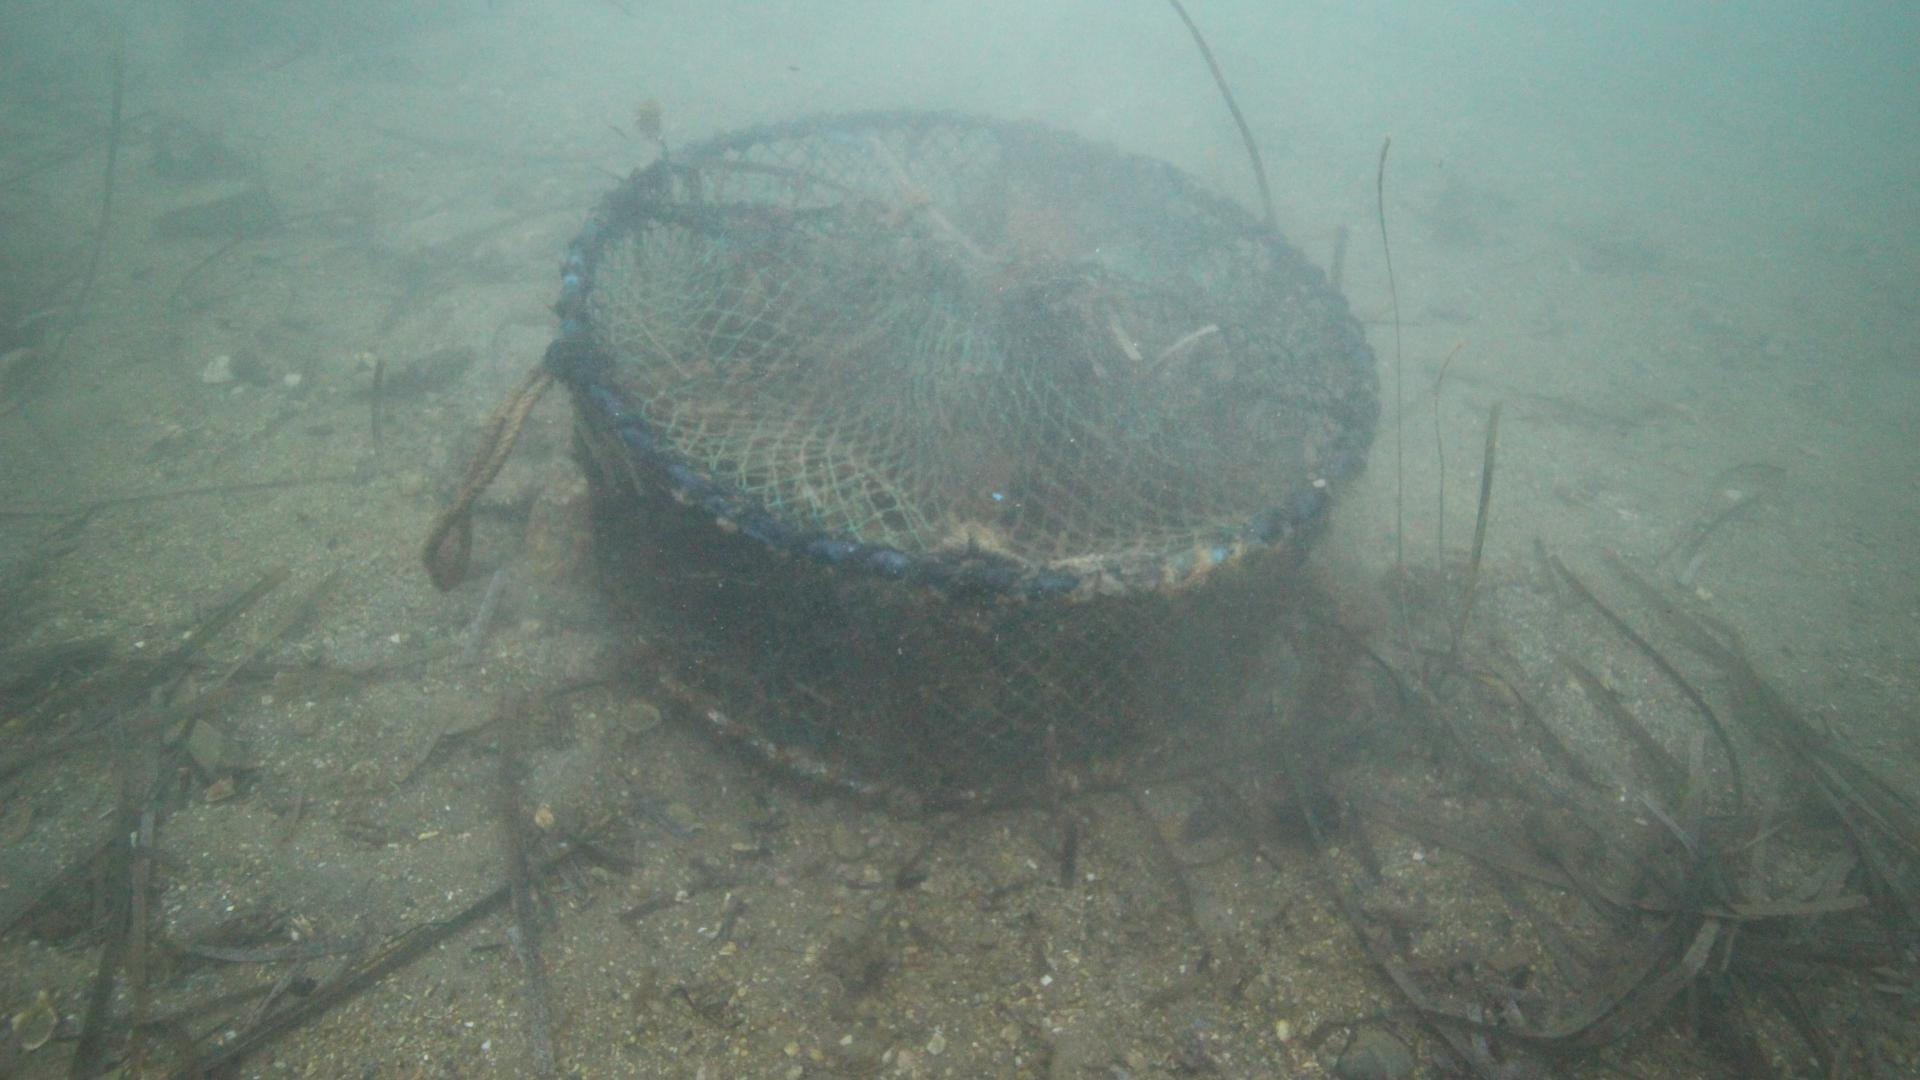circular fish trap: (555, 107, 1381, 815)
rope: (414, 355, 554, 595)
